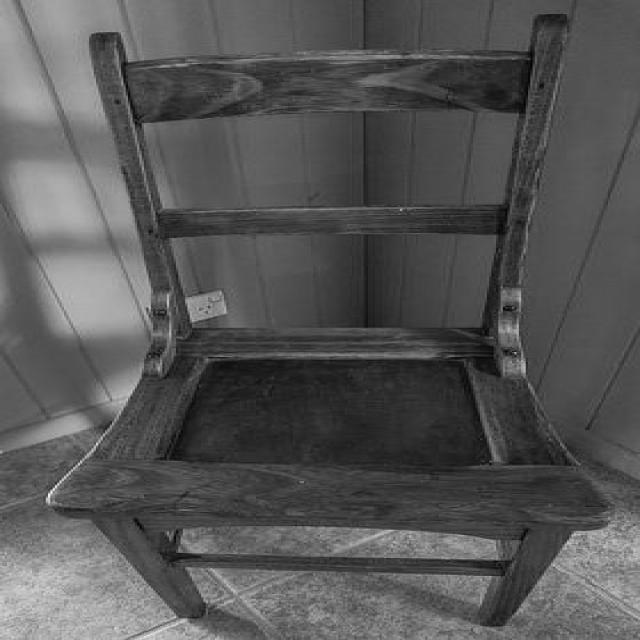chair: (51, 13, 609, 638)
